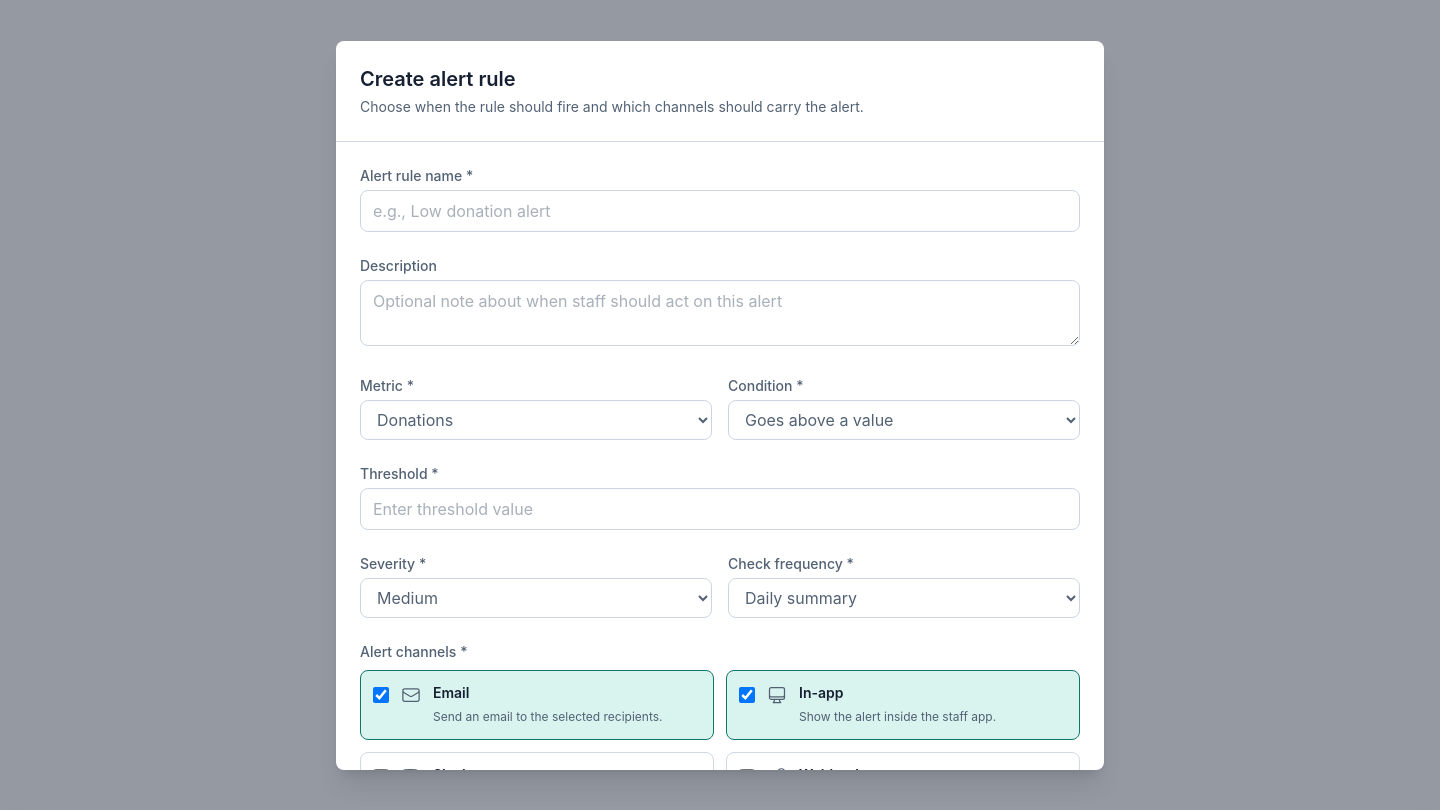
Test: AlertConfigModal › runs test-alert flow and renders the returned result
The width and height of the screenshot is (1440, 810).
Type "Threshold alert" into the field labelled "Alert rule name *" at (720, 210), box [360,190,1080,232]
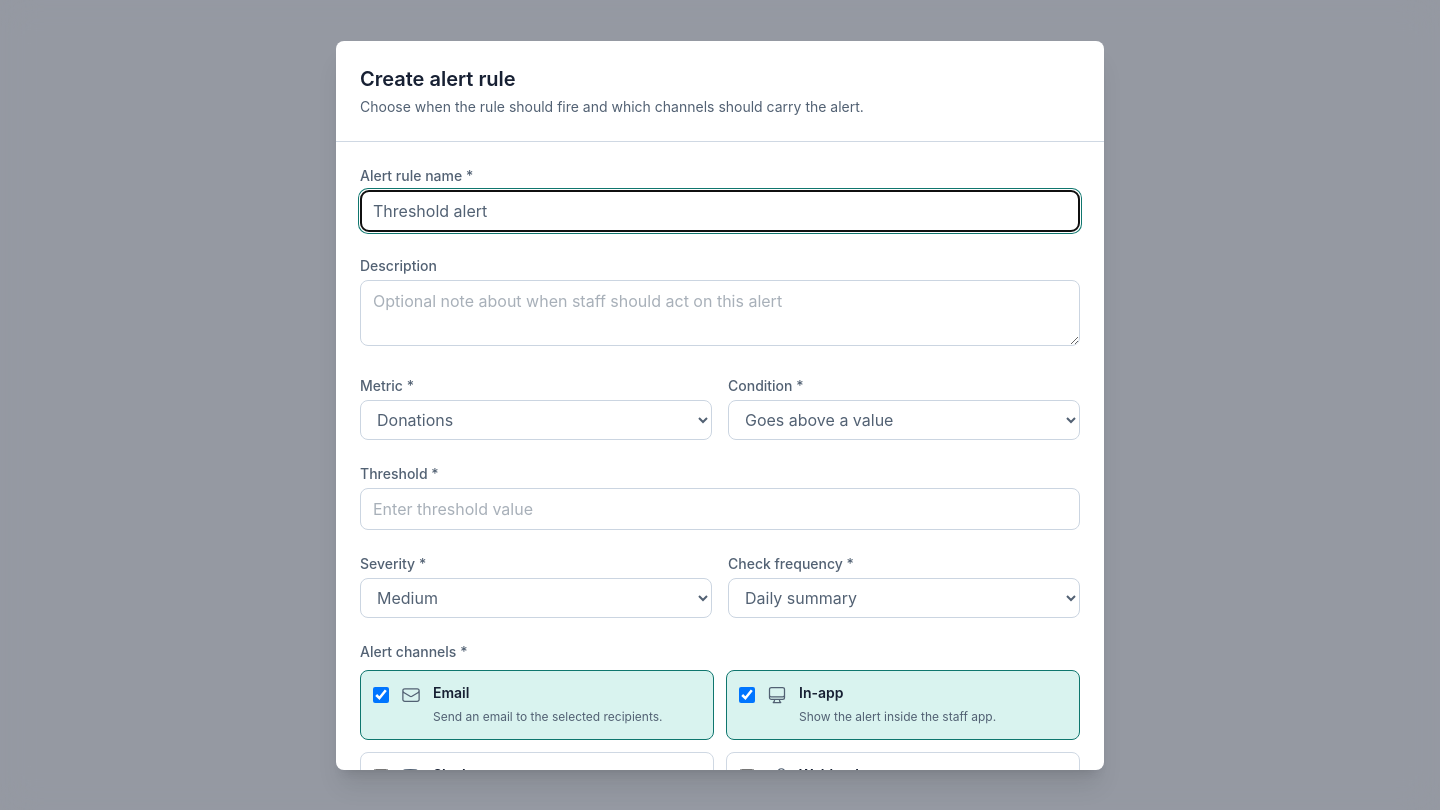
Type "10" into the number field labelled "Threshold *" at (720, 508), box [360,488,1080,530]
(page scrolled)
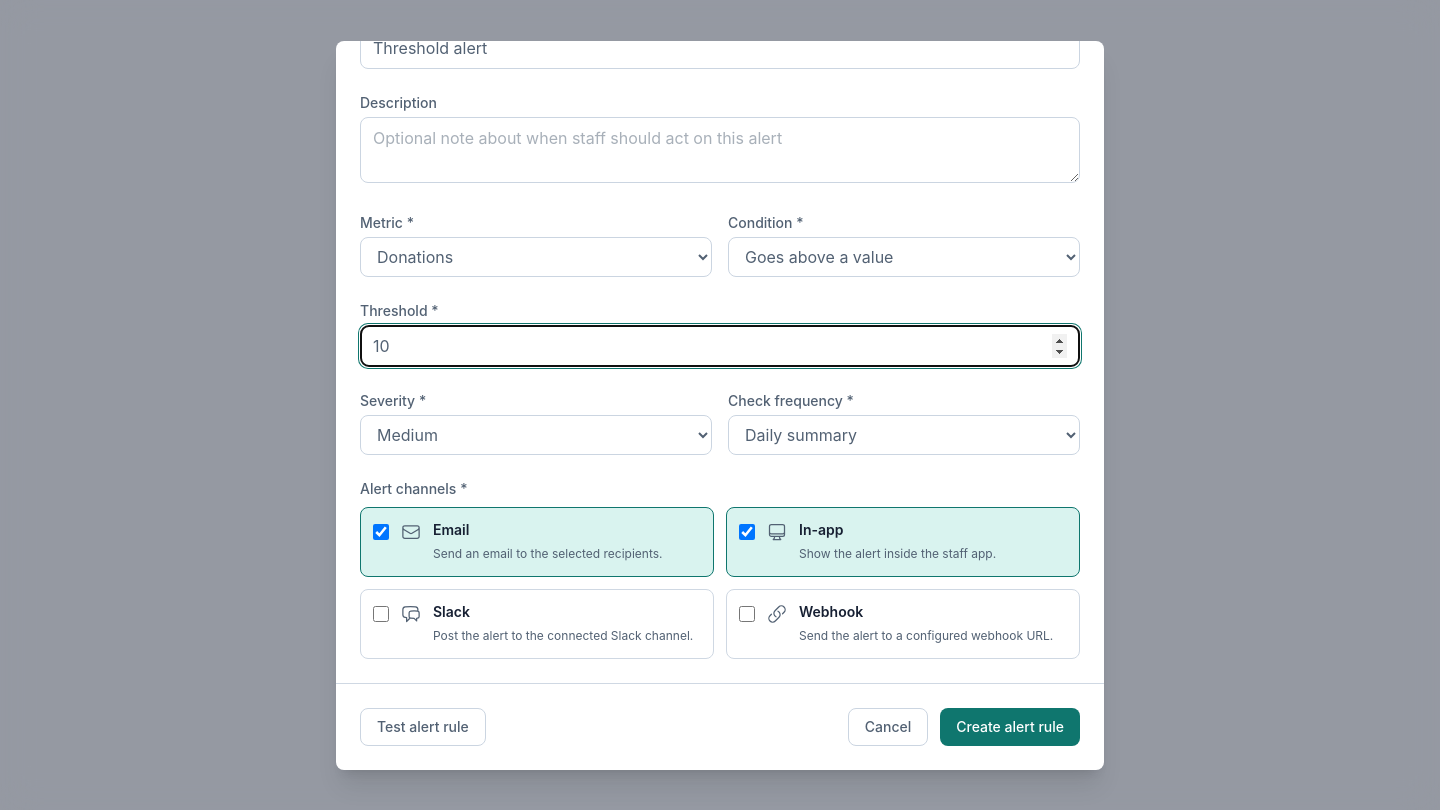
Click the button "Test alert rule" at (423, 726), box [360,708,486,746]
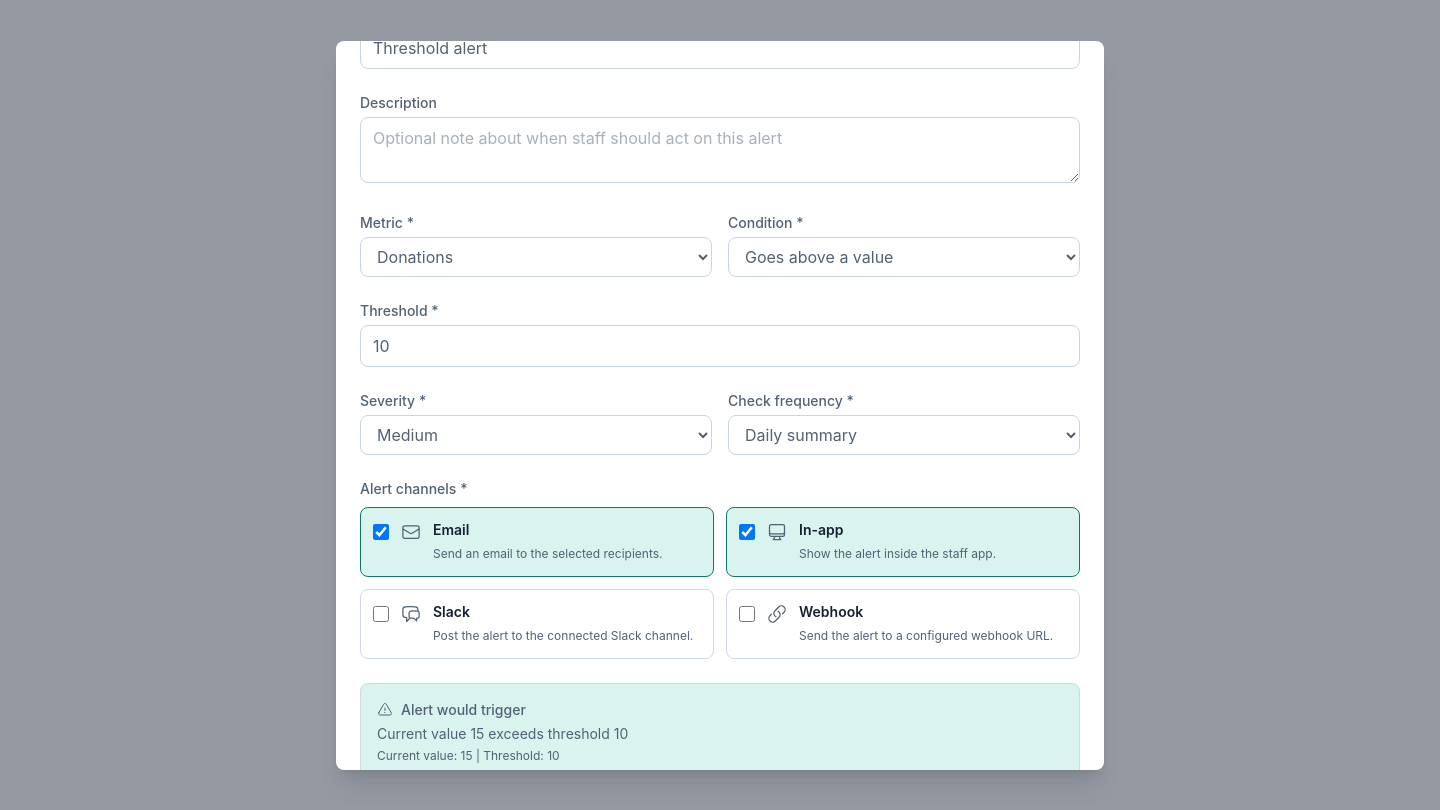
Now the text "Alert would trigger" is shown, box [377,700,526,720]
